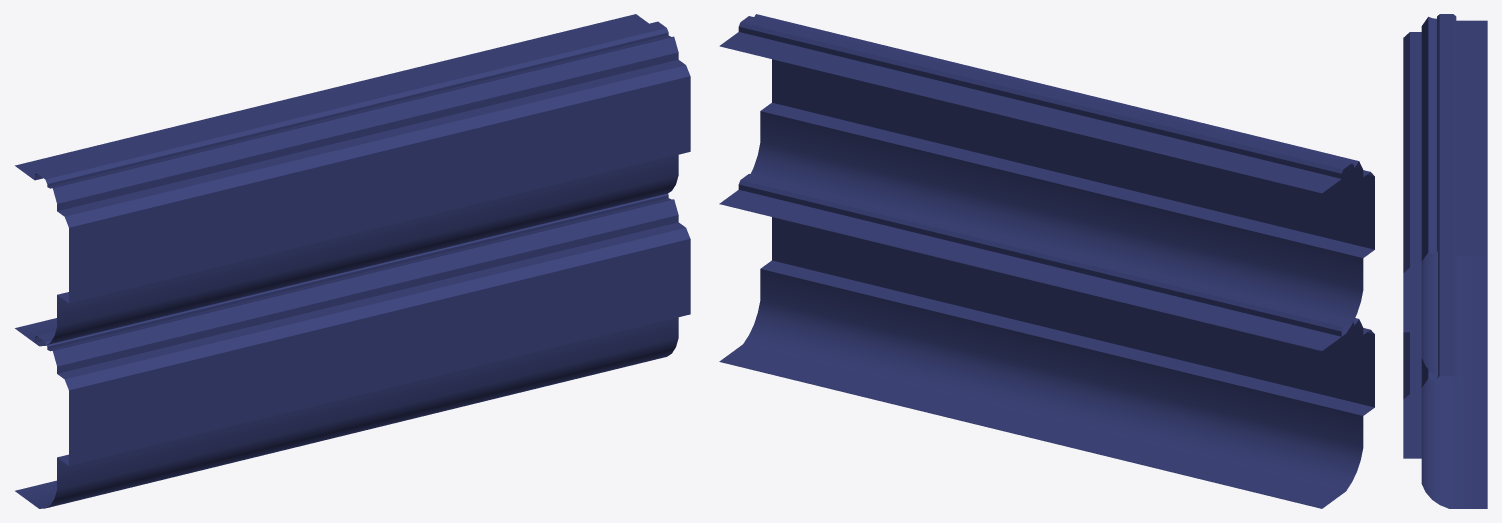
The model's file is wall 1 up.FBX.
The picture shows the model from 3 angles, left to right: view 1: azimuth 30°, elevation 25°; view 2: azimuth 150°, elevation 25°; view 3: azimuth 270°, elevation 25°; orthographic projection. The views are drawn at different scales.
Parts seen in each view (by area): view 1: Object1196324241; view 2: Object1196324241; view 3: Object1196324241.
Part boxes in pixels (x1,y1,x2,y2): Object1196324241: (15,14,690,508); Object1196324241: (719,14,1374,508); Object1196324241: (1403,14,1487,508).
Bounding box in the file's own units: 4 × 2.05 × 0.607.
